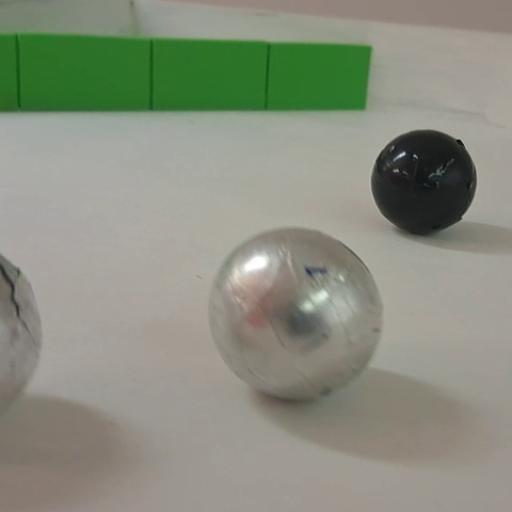alive: (207, 225, 384, 404), (0, 240, 42, 428)
dead: (370, 129, 476, 235)
